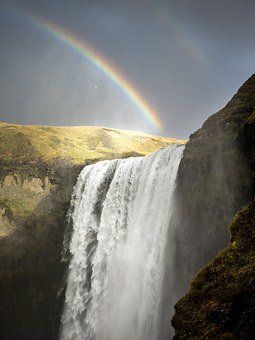sky: (4, 3, 231, 123)
waterfall: (32, 122, 218, 340)
